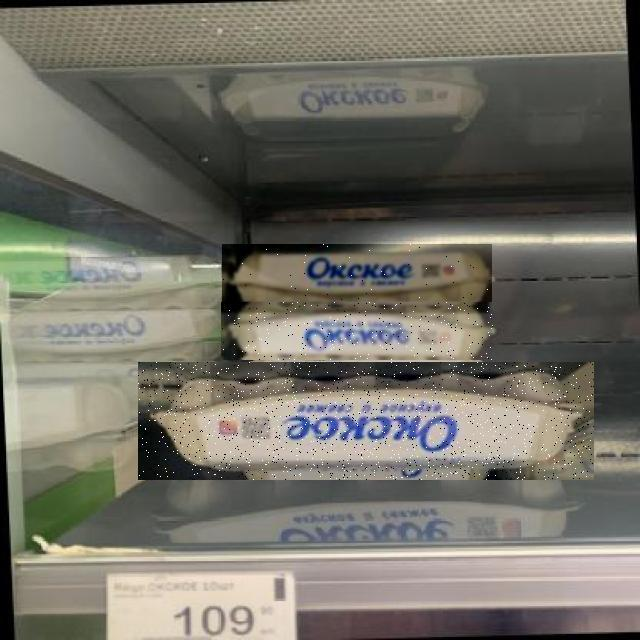egg: (0, 240, 435, 640), (0, 180, 469, 540), (0, 156, 470, 470)
